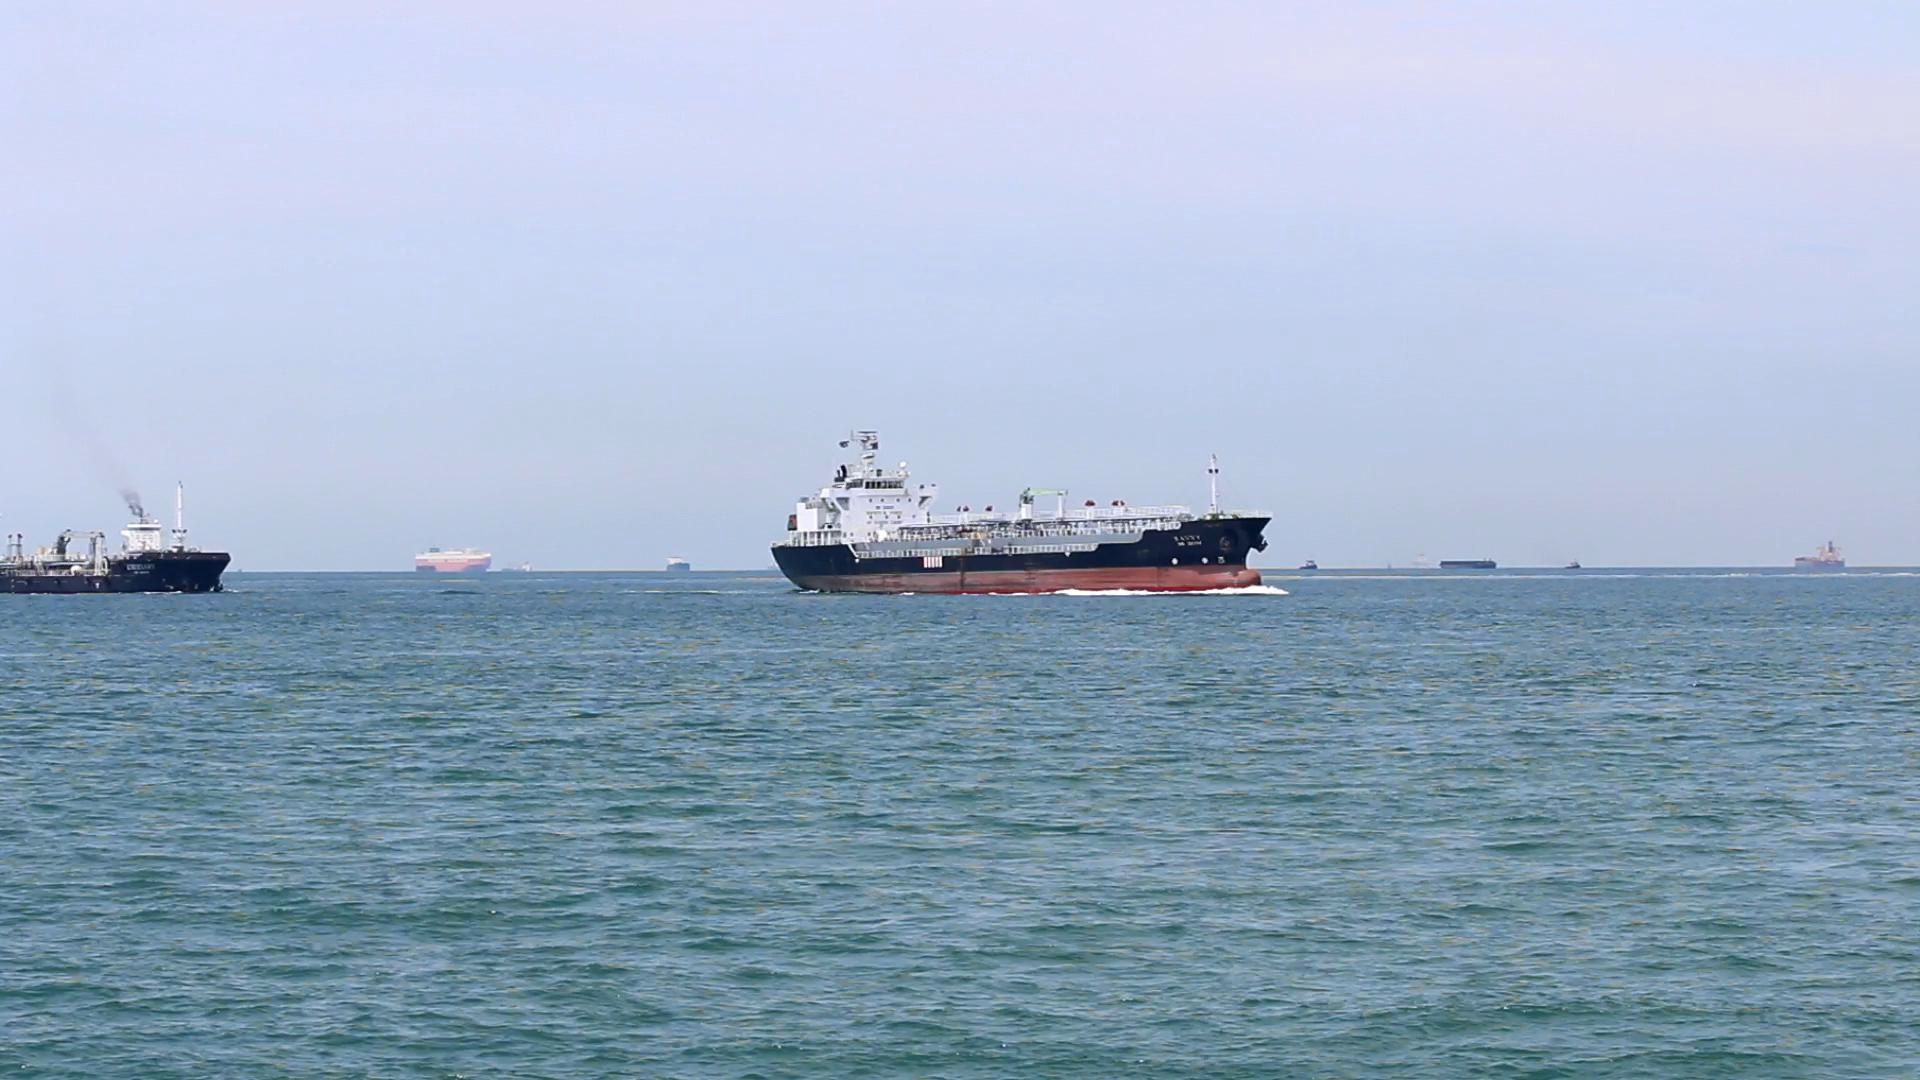Container Ship: (769, 431, 1282, 597), (1, 475, 237, 596), (409, 543, 496, 575)
